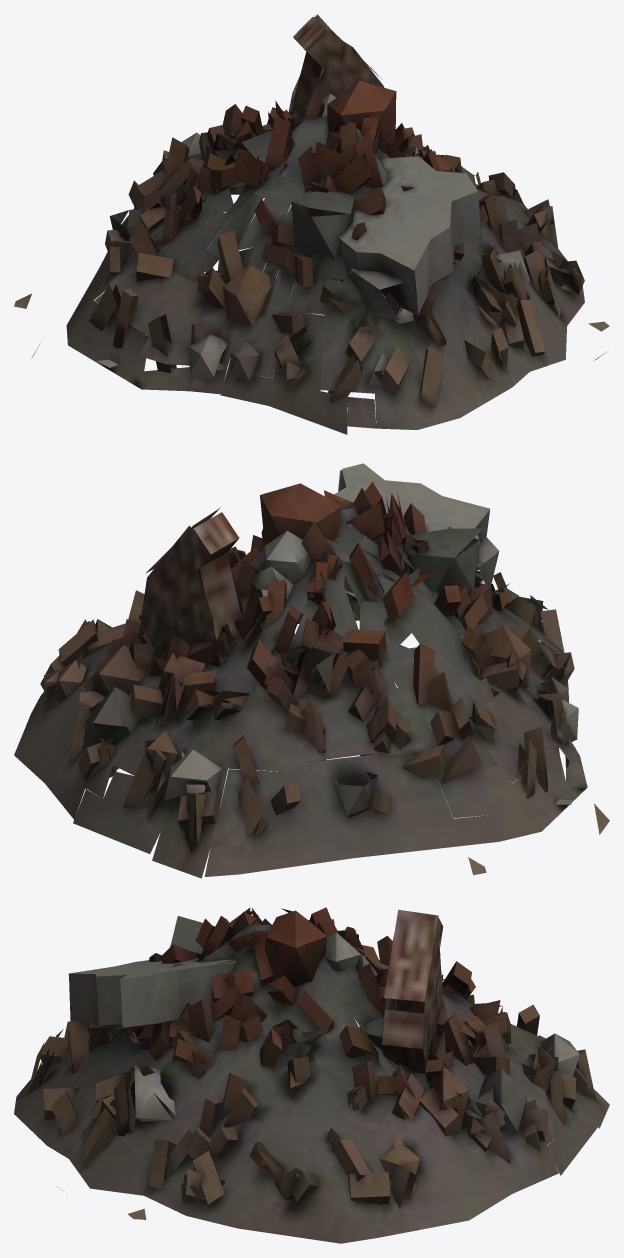
File: rubble_heap.glb
3 views of the same model, one above another, from view 1: azimuth 30°, elevation 25°; view 2: azimuth 150°, elevation 25°; view 3: azimuth 270°, elevation 25° (orthographic). The views are drawn at different scales.
Parts seen in each view (by area): view 1: rubble_heap; view 2: rubble_heap; view 3: rubble_heap.
Boxes of the visible parts, x1,y1,x2,y2 form: rubble_heap: (14,14,609,434); rubble_heap: (14,463,609,878); rubble_heap: (14,907,609,1243).
Size of the model in its own units: 1.85 by 0.85 by 1.85.
1 material, 1 textured.
